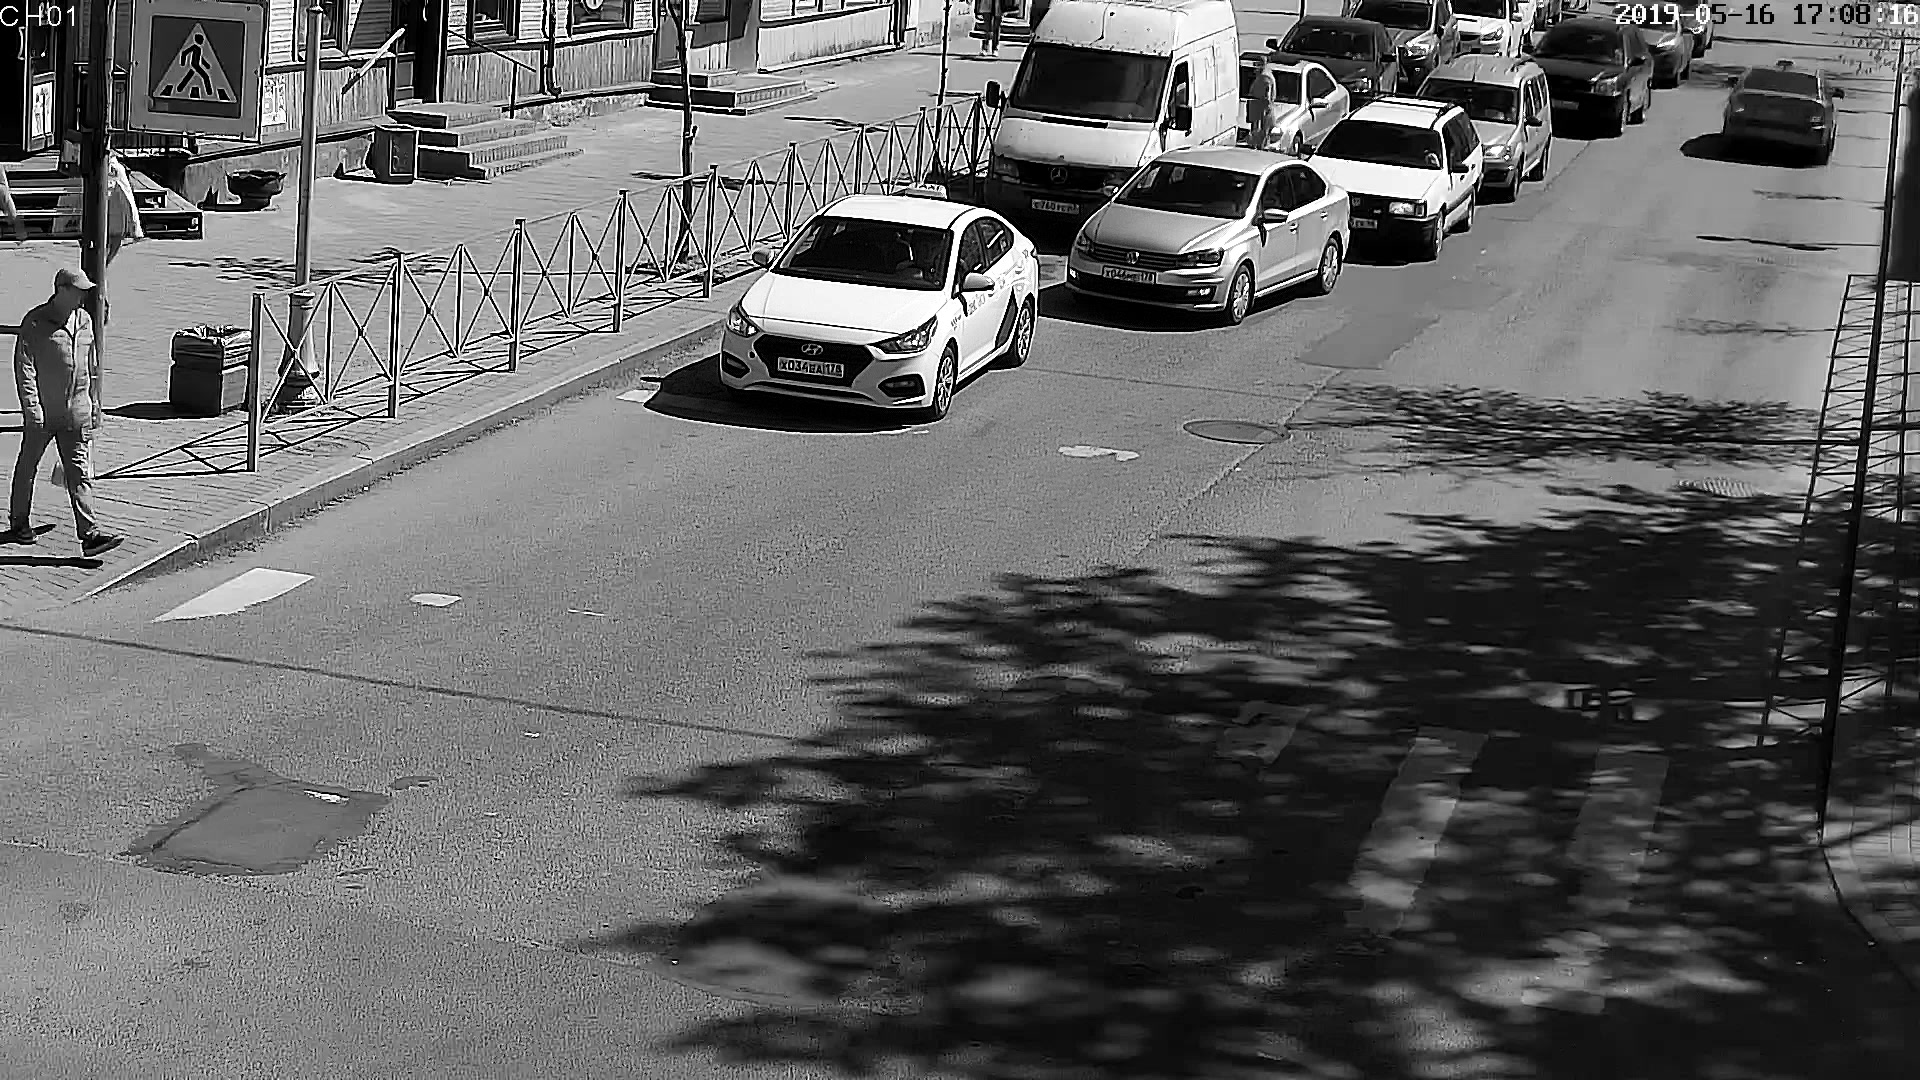car_num: (773, 356, 845, 380), (1102, 262, 1156, 286), (1029, 199, 1079, 215), (1551, 98, 1577, 113), (1348, 216, 1377, 229)
